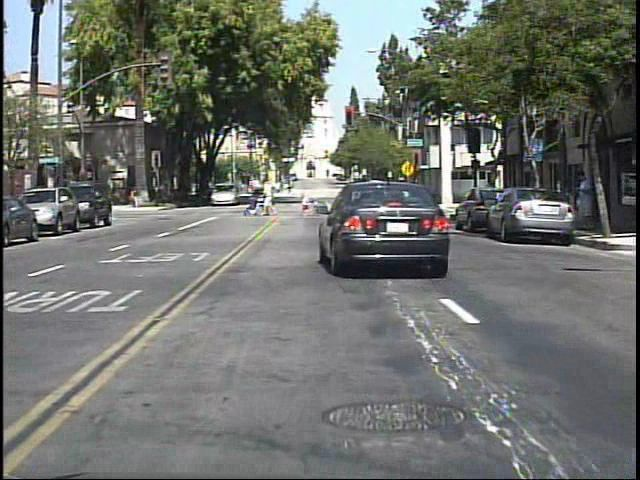person: (569, 170, 593, 236), (262, 177, 280, 219), (152, 181, 164, 209), (129, 186, 140, 211)
